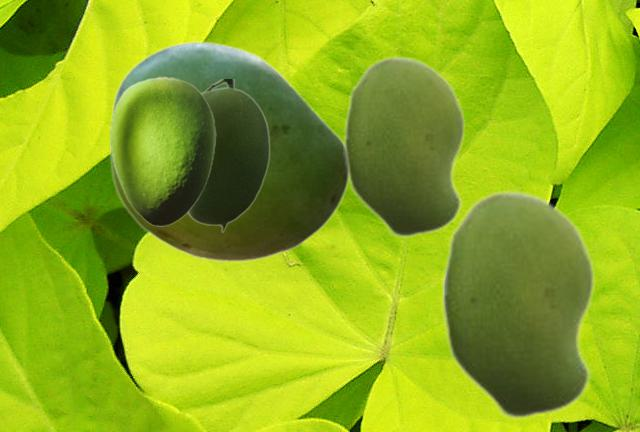green_mango: (109, 40, 348, 262), (441, 189, 595, 420), (343, 55, 465, 238), (109, 76, 215, 225), (188, 79, 269, 232)
